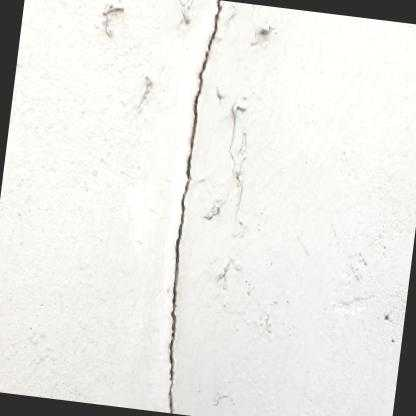crack: (167, 0, 224, 414)
